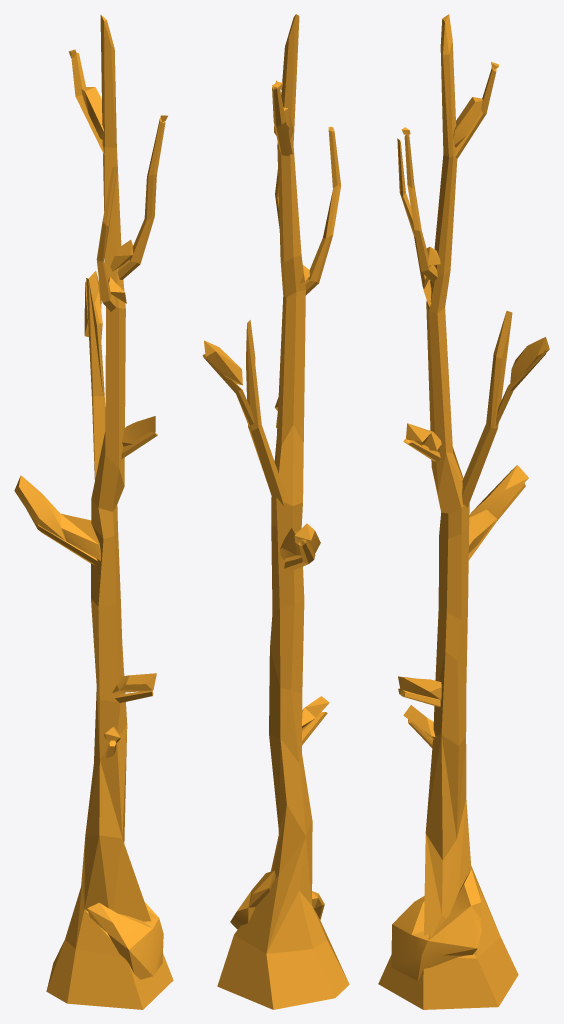
The model's file is SM_Tree_Cypress_Dead_A_Snow.fbx.
3 views of the same model, side by side, from view 1: azimuth 30°, elevation 25°; view 2: azimuth 150°, elevation 25°; view 3: azimuth 270°, elevation 25° (orthographic).
Visible parts, largest first — view 1: tree-cypress-dead-a-snow; view 2: tree-cypress-dead-a-snow; view 3: tree-cypress-dead-a-snow.
Part boxes in pixels (x1,y1,x2,y2): tree-cypress-dead-a-snow: (14,14,173,1009); tree-cypress-dead-a-snow: (202,14,349,1009); tree-cypress-dead-a-snow: (378,14,549,1009).
Bounding box in the file's own units: 0.6312 × 5.29 × 0.8507.
